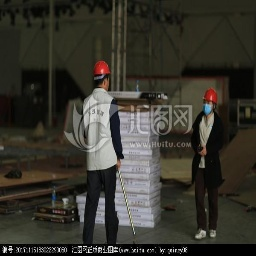helmet: (94, 59, 113, 77), (202, 93, 218, 106)
no-vest: (192, 110, 222, 190)
person: (192, 89, 224, 242)
